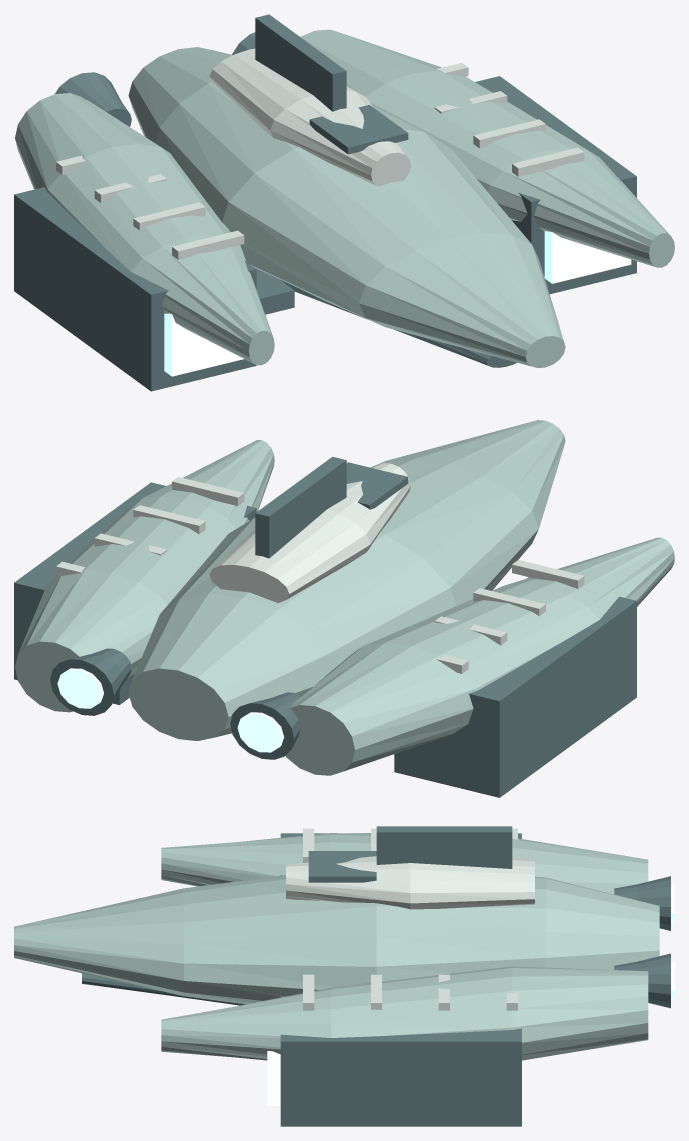
The picture shows the model from 3 angles, top to bottom: view 1: azimuth 30°, elevation 25°; view 2: azimuth 150°, elevation 25°; view 3: azimuth 270°, elevation 25°; orthographic projection. The views are drawn at different scales.
Bounding box in the file's own units: 14.72 × 6.36 × 19.72.
